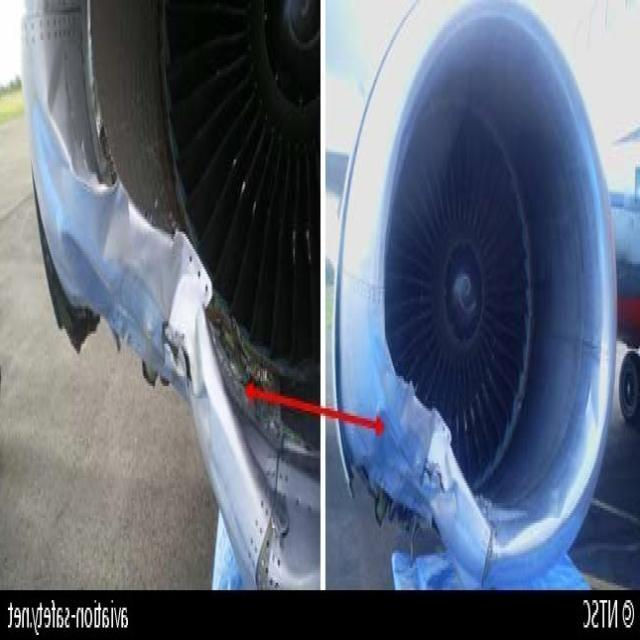dent: (99, 185, 135, 265)
